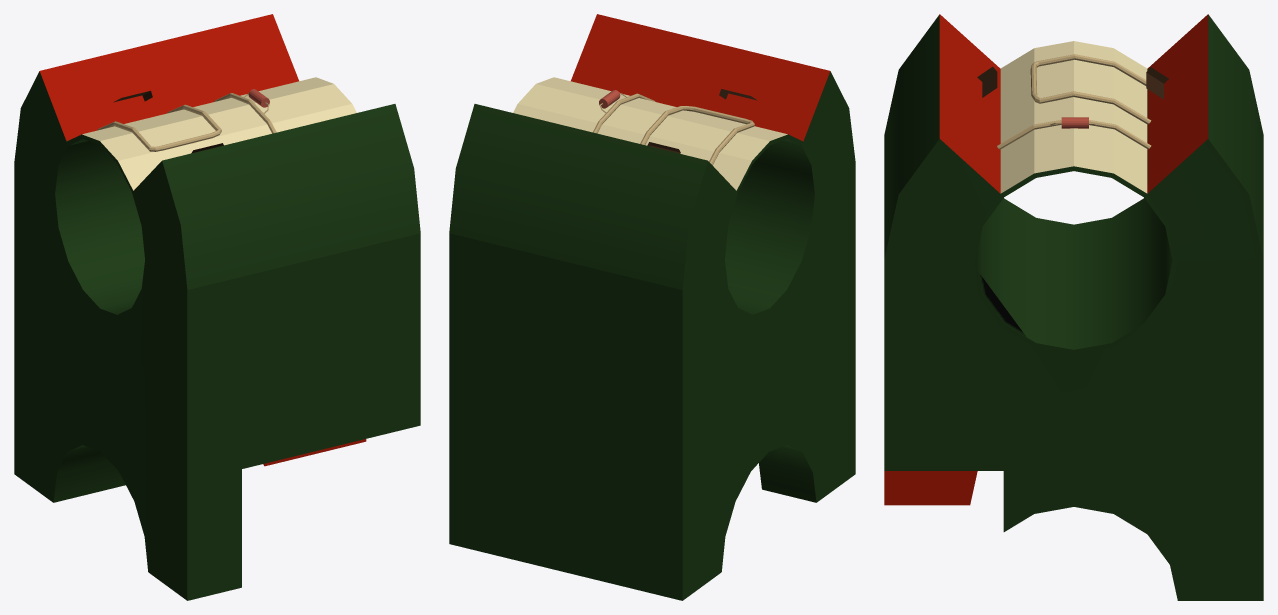
Rendered from ПТ-БлокДатчиков_Р.fbx.
3 renders of one model, left to right at view 1: azimuth 30°, elevation 25°; view 2: azimuth 150°, elevation 25°; view 3: azimuth 270°, elevation 25°, orthographic. The views are drawn at different scales.
Visible parts, largest first — view 1: ТРуба.004; view 2: ТРуба.004; view 3: ТРуба.004.
Part boxes in pixels (box(x1,y1,x2,y2)): ТРуба.004: box(14, 14, 420, 600); ТРуба.004: box(449, 14, 855, 600); ТРуба.004: box(884, 14, 1263, 600).
Size of the model in its own units: 109 by 187 by 139.
1 material, 1 textured.
